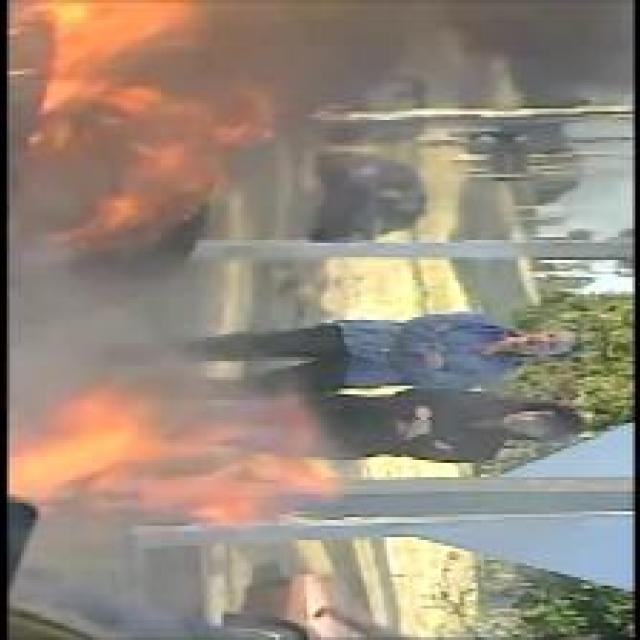Fire: (13, 3, 267, 243), (14, 383, 334, 526)
